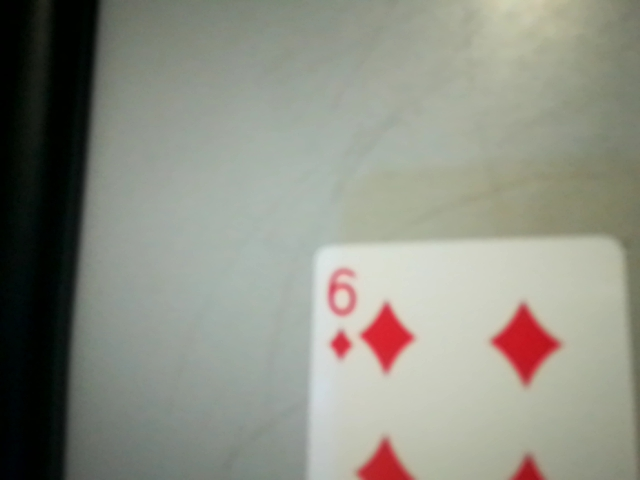fk 6: (310, 257, 369, 371)
